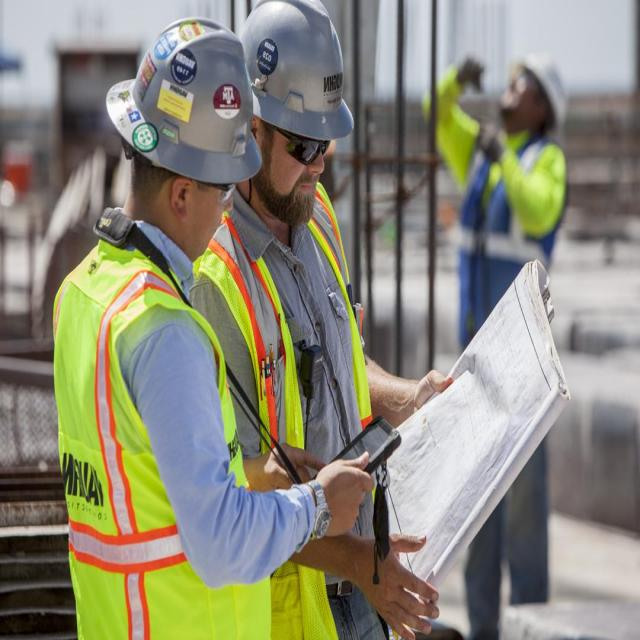Reflective-Jacket: (52, 246, 270, 639), (196, 195, 372, 640), (483, 127, 572, 254)
Safety-Helmet: (106, 13, 263, 188), (240, 2, 356, 146)
